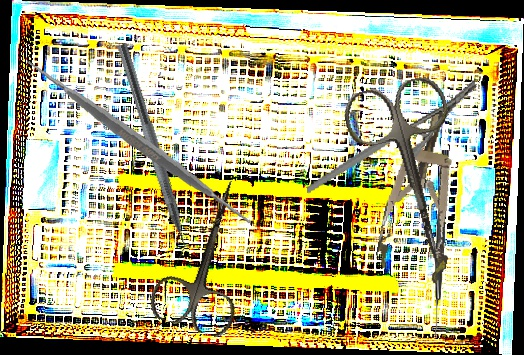Chopper: (101, 42, 199, 271)
Hook Surgical: (432, 149, 449, 337)
Iris Scissors: (339, 72, 486, 280), (144, 168, 274, 341)
Needle Holder: (290, 78, 492, 195)
Spatula Surgical: (25, 26, 253, 257)
Speculum: (372, 102, 476, 285)
